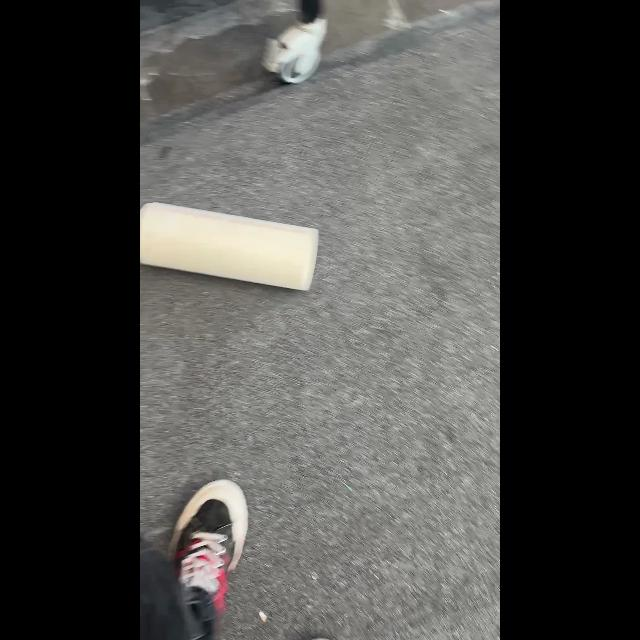CORAL: (141, 200, 319, 292)
